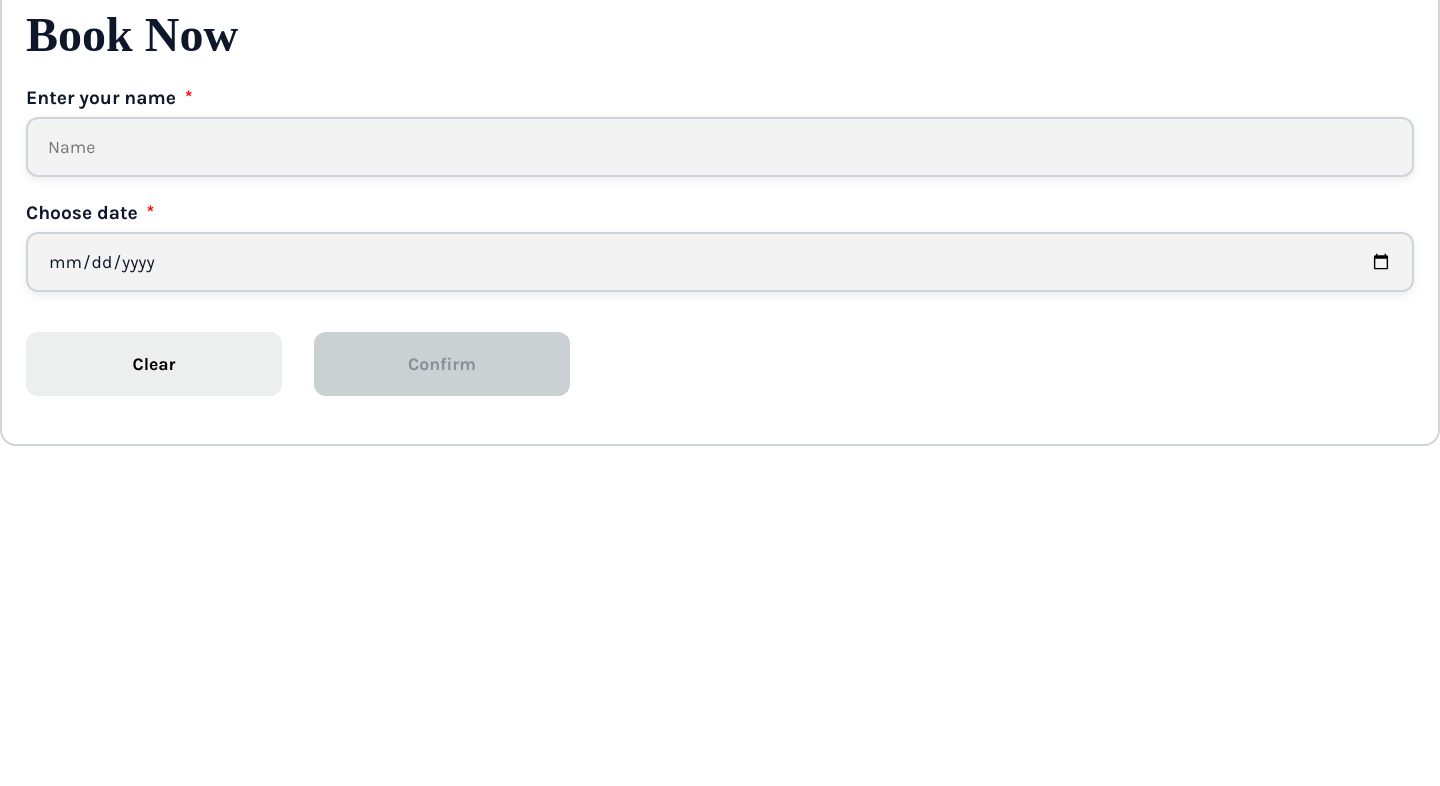
clears all form progress when Clear is clicked
Type "jane doe" into the field labelled "Enter your name *" at (720, 147), box [26,117,1414,177]
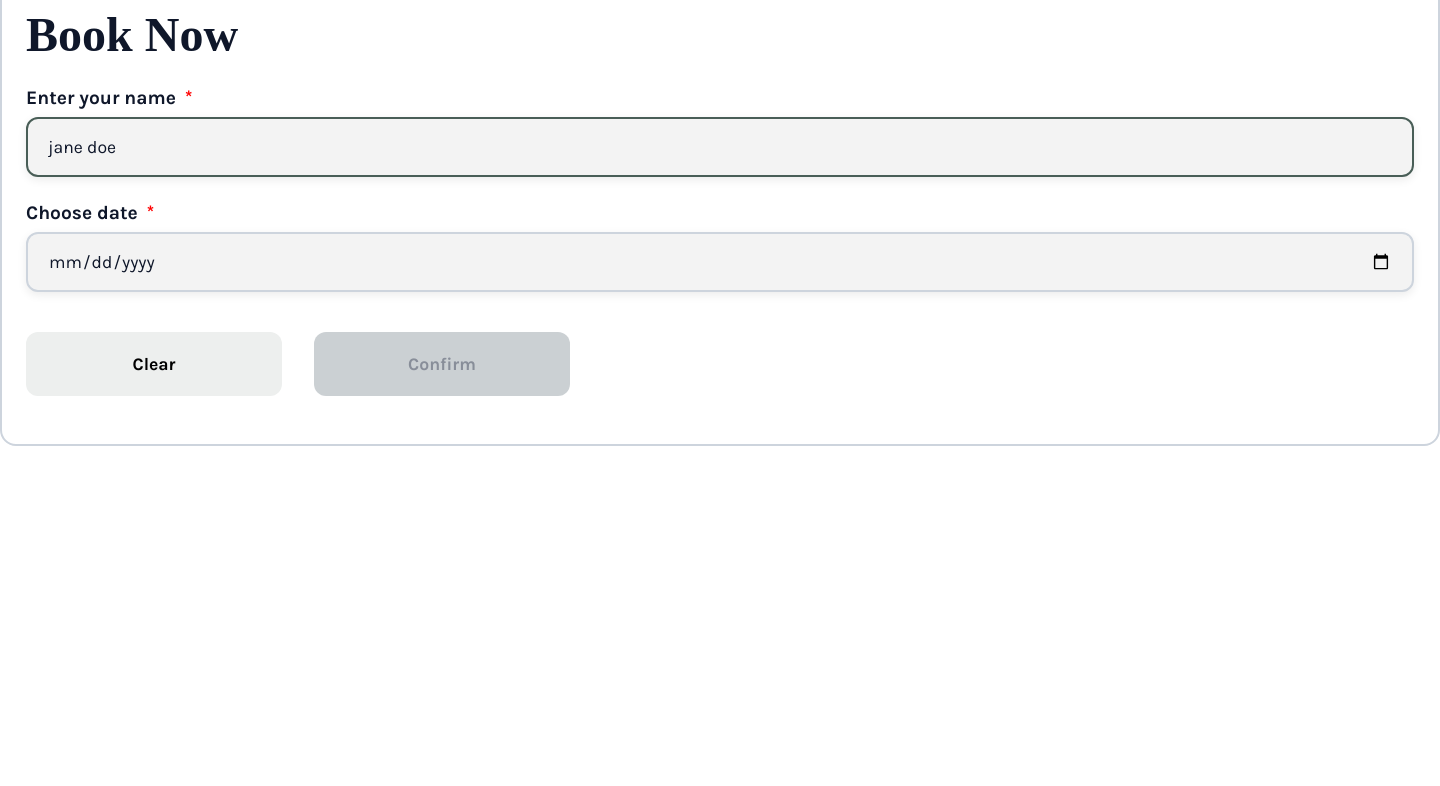
Type "2099-06-10" into the date field labelled "Choose date *" at (720, 262), box [26,232,1414,292]
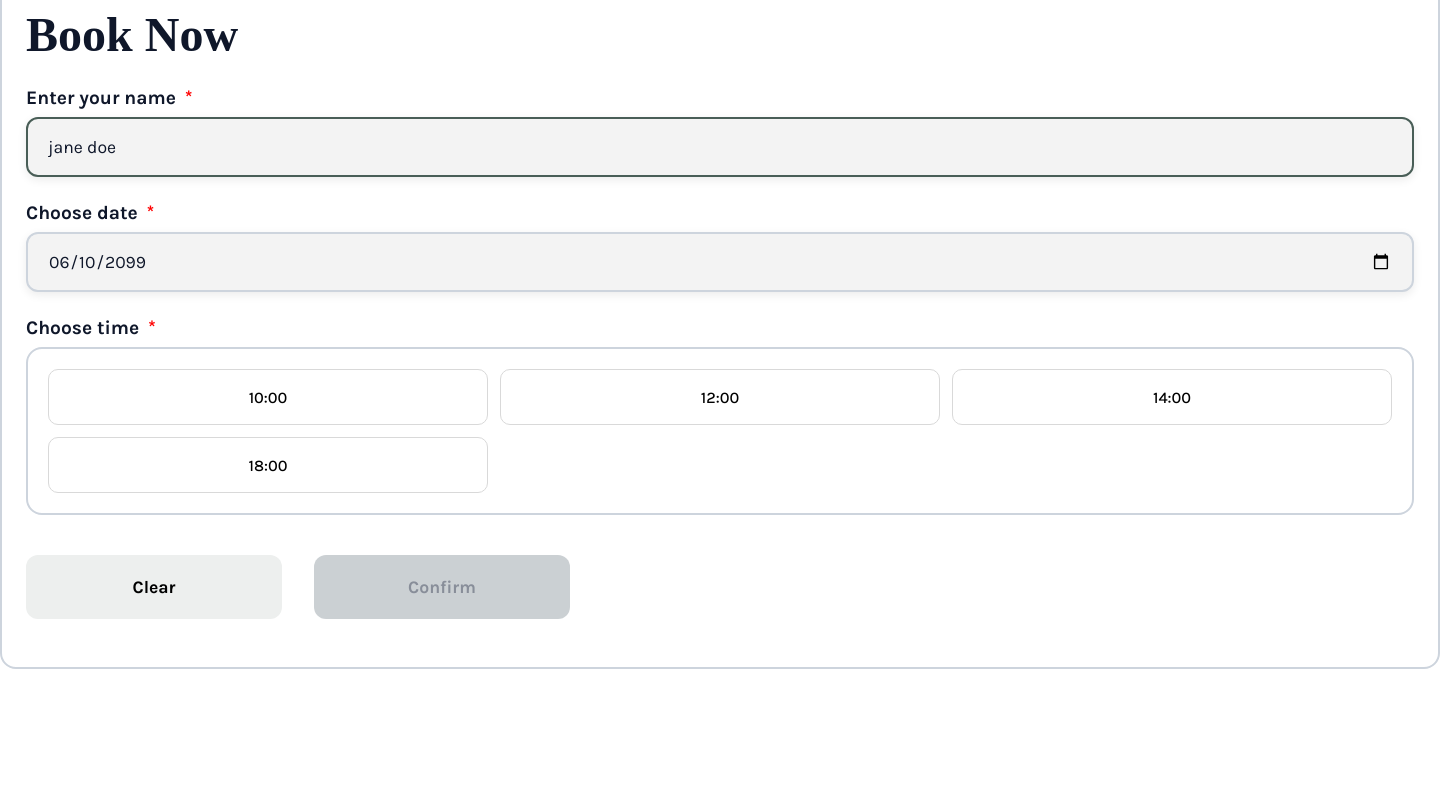
Click the button "18:00" at (268, 465), box [48,437,488,493]
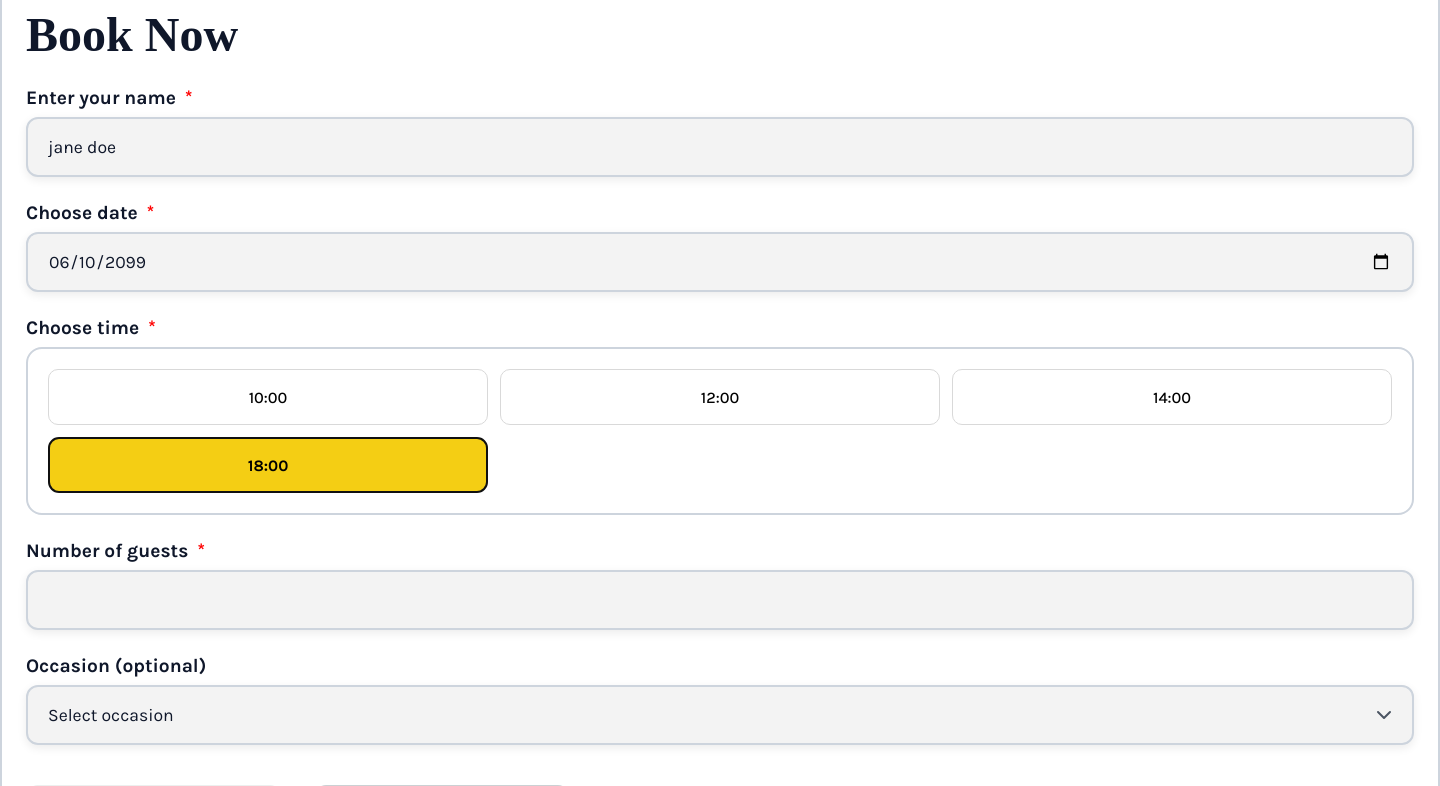
Type "2" into the number field labelled "Number of guests *" at (720, 600), box [26,570,1414,630]
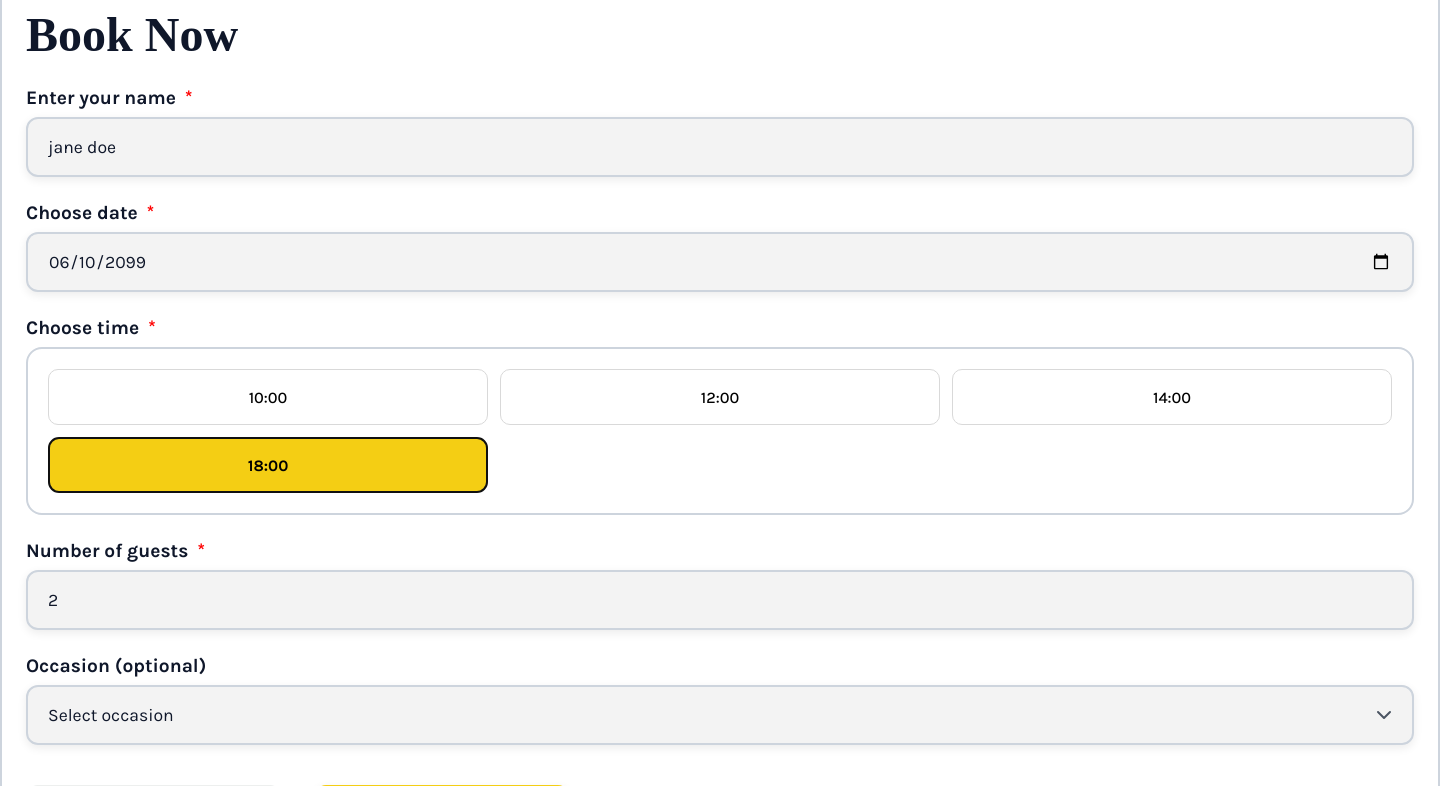
Select "Birthday" in the dropdown labelled "Occasion (optional)" at (720, 715), box [26,685,1414,745]
(page scrolled)
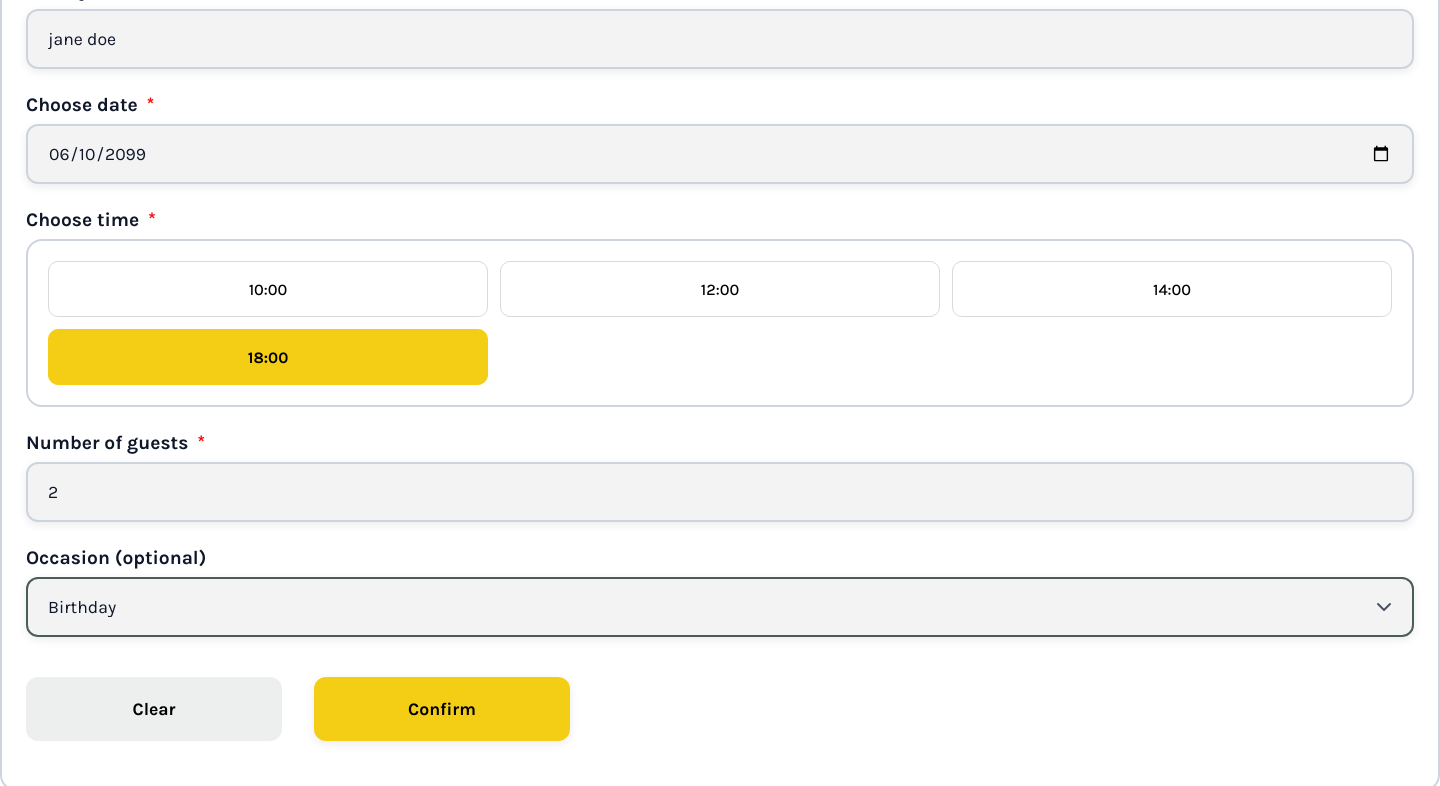
Click the button "Clear" at (154, 709), box [26,677,282,741]
(page scrolled)
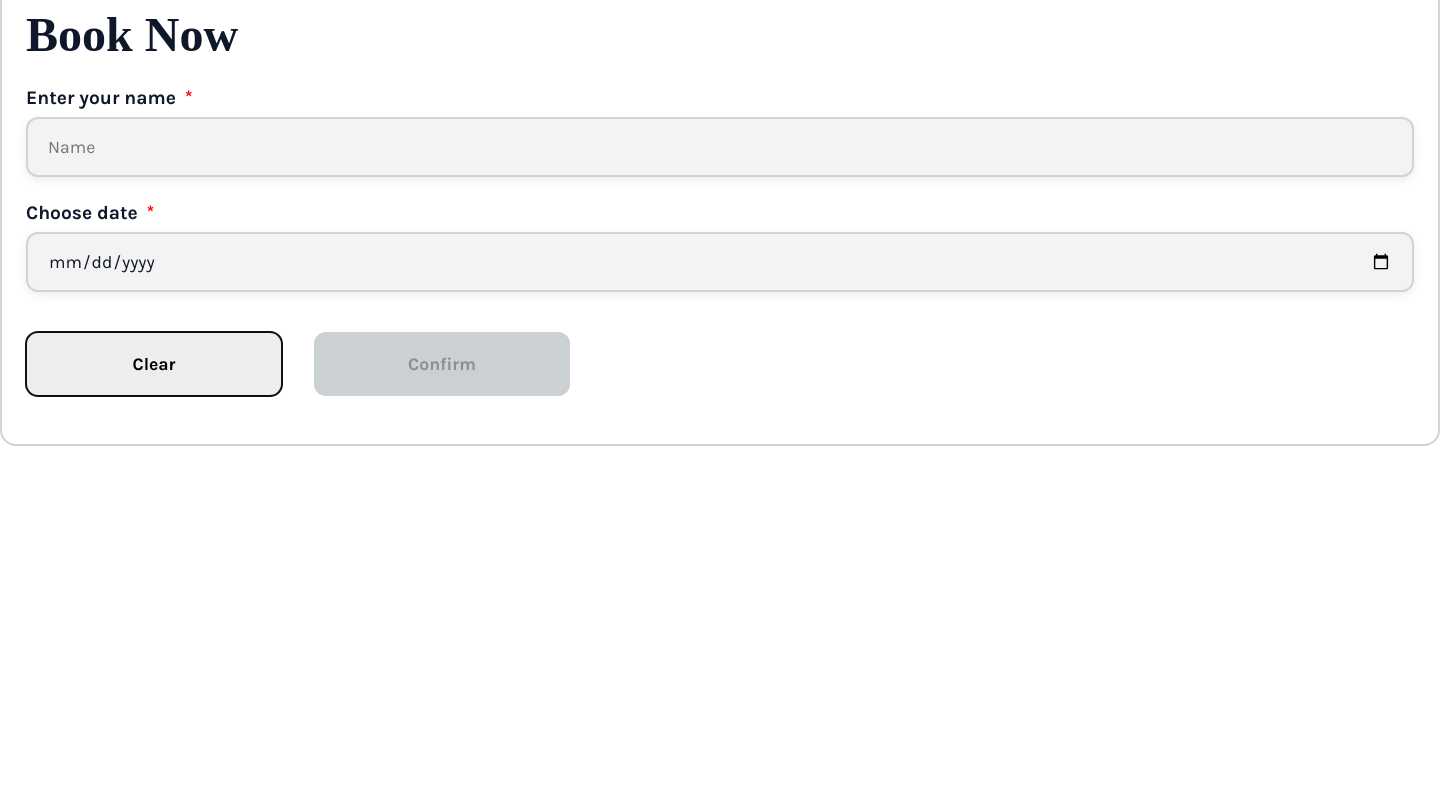
Now the field labelled "Enter your name *" is empty, box [26,117,1414,177]
Now the date field labelled "Choose date *" is empty, box [26,232,1414,292]
Now the label labelled "Number of guests" is gone
